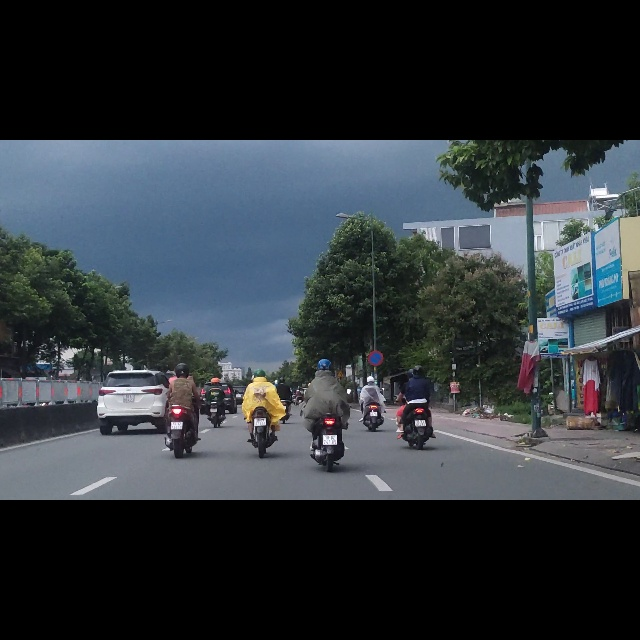bien_nguy_hiem: (368, 375, 383, 402), (336, 410, 344, 422)
